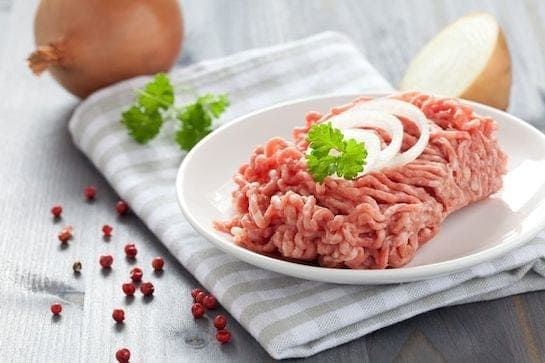ground_beef: (246, 89, 472, 289)
